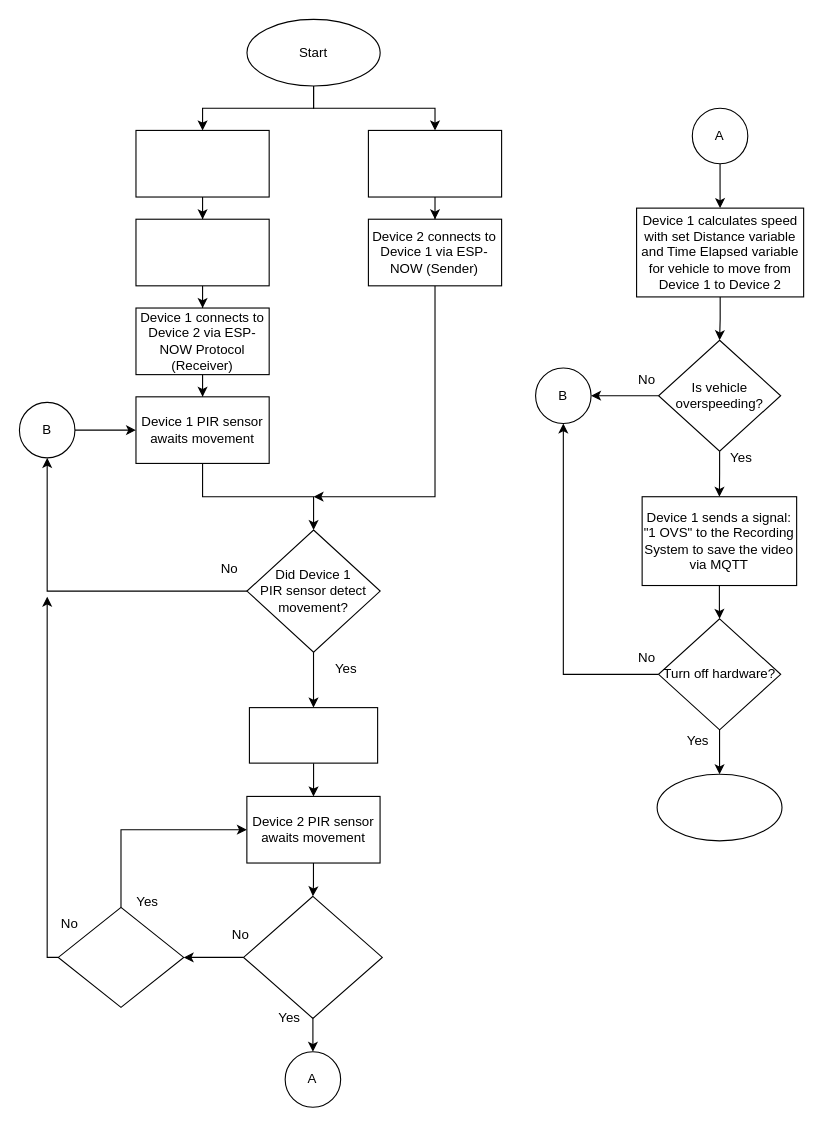
Image size: 824x1127. Some labels were removed from this diagram. The shapes that lost their labels are listed below. From the top down, each one's box as (x1, y1, x2, y2) in pixels, then its label:
(135, 129, 269, 197): Turn on Overspeeding Device 1
(367, 129, 502, 197): Turn on Overspeeding Device 2
(135, 218, 269, 286): Device 1 connects to WiFi network and subscribes to "OVS" MQTT topic
(248, 707, 378, 763): Begin interval timer
(656, 773, 782, 841): End
(57, 906, 184, 1007): Still within interval timer?
(242, 895, 382, 1018): Did Device 2 PIR sensor detect movement?
